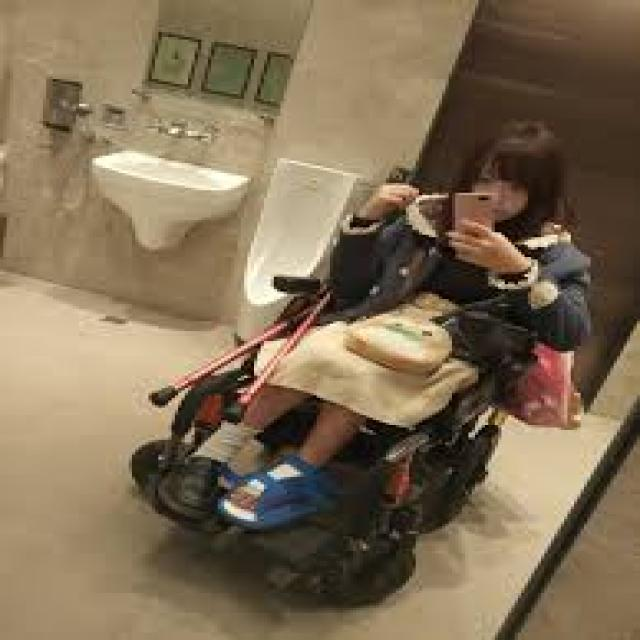wheelchairs: (109, 232, 594, 603)
